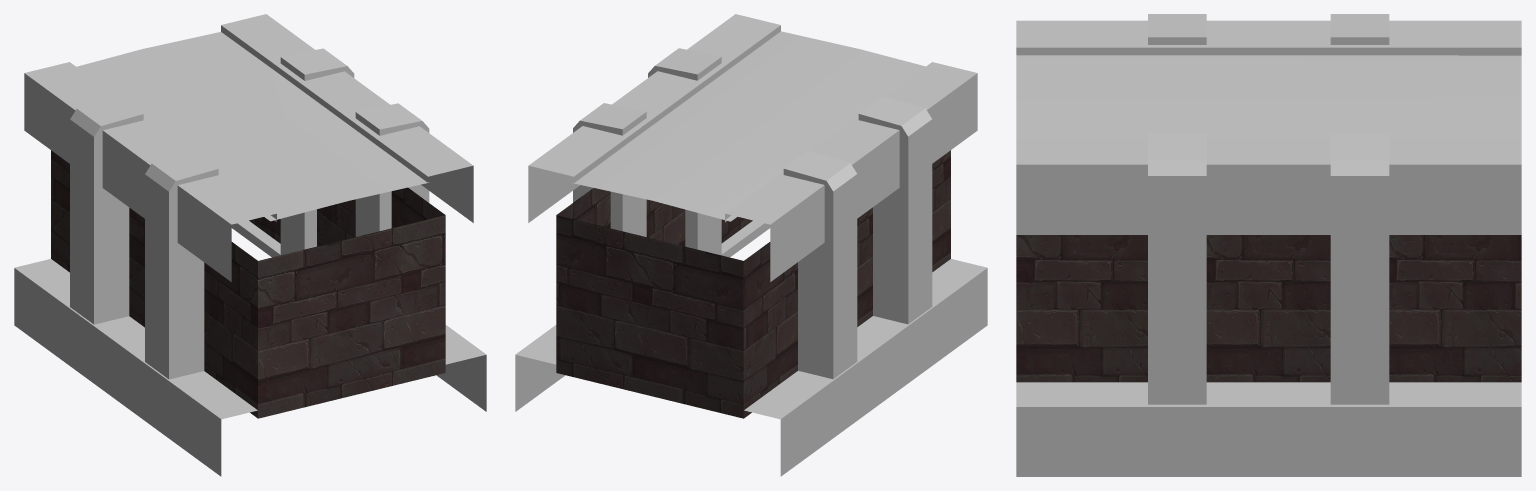
File: 10504_WRoad01.FBX
The picture shows the model from 3 angles, left to right: view 1: azimuth 30°, elevation 25°; view 2: azimuth 150°, elevation 25°; view 3: azimuth 270°, elevation 25°; orthographic projection. The views are drawn at different scales.
Parts seen in each view (by area): view 1: 02, Object905; view 2: 02, Object905; view 3: 02, Object905.
Part boxes in pixels (x1=…): 02: x1=14, y1=14, x2=486, y2=476; Object905: x1=51, y1=150, x2=445, y2=418; 02: x1=515, y1=14, x2=987, y2=476; Object905: x1=556, y1=150, x2=950, y2=418; 02: x1=1016, y1=14, x2=1521, y2=476; Object905: x1=1016, y1=235, x2=1521, y2=382.
Bounding box in the file's own units: 739 × 682 × 1000.
